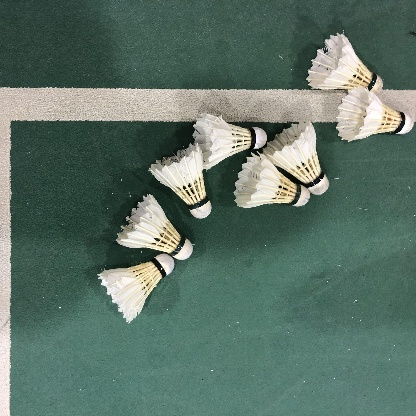ball_single: (97, 253, 175, 323), (116, 194, 193, 260), (263, 121, 329, 195), (149, 143, 212, 219), (307, 33, 383, 94), (336, 86, 414, 141), (234, 153, 310, 208), (192, 114, 267, 169)
